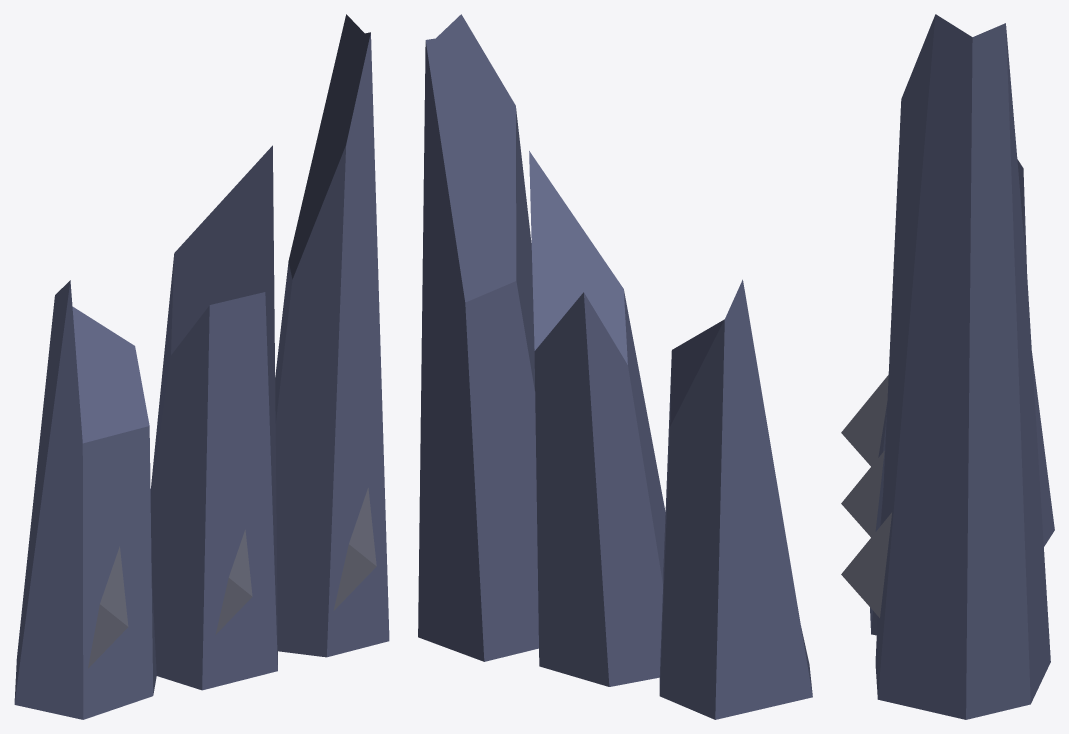
File: map-boundaries-v5__highland_06.glb
3 views of the same model, side by side, from view 1: azimuth 30°, elevation 25°; view 2: azimuth 150°, elevation 25°; view 3: azimuth 270°, elevation 25° (orthographic). The views are drawn at different scales.
Parts seen in each view (by area): view 1: highland_06; view 2: highland_06; view 3: highland_06.
Part boxes in pixels (<box>): highland_06: <box>14,14,389,719</box>; highland_06: <box>418,14,812,719</box>; highland_06: <box>841,14,1054,719</box>.
Size of the model in its own units: 1.54 by 2.27 by 0.6379.
